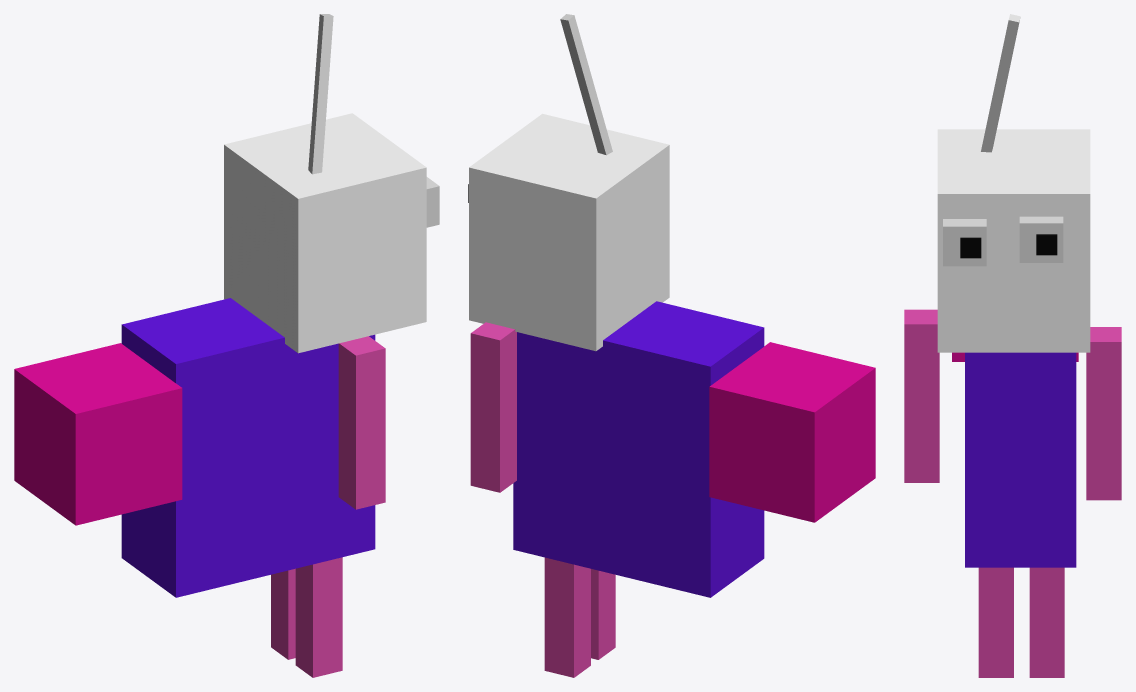
Rendered from cubo.glb.
3 renders of one model, left to right at view 1: azimuth 30°, elevation 25°; view 2: azimuth 150°, elevation 25°; view 3: azimuth 270°, elevation 25°, orthographic. The views are drawn at different scales.
Parts seen in each view (by area): view 1: Cuerpo, Cabeza, Mochila, Brazo Derecho, Pierna derecha, Antena, Pierna Izquierda, Ojo Derecho; view 2: Cuerpo, Cabeza, Mochila, Brazo Izquierdo, Pierna Izquierda, Antena, Pierna derecha; view 3: Cabeza, Cuerpo, Brazo Derecho, Brazo Izquierdo, Pierna derecha, Pierna Izquierda, Ojo Izquierdo, Ojo Derecho, Antena, Pulipa izquierda, Pupila derecha.
Part boxes in pixels (left/top/right/bottom): Cuerpo: left=121, top=298, right=375, bottom=597; Cabeza: left=224, top=113, right=426, bottom=353; Mochila: left=14, top=343, right=182, bottom=525; Brazo Derecho: left=338, top=336, right=385, bottom=509; Pierna derecha: left=295, top=557, right=342, bottom=677; Antena: left=308, top=14, right=333, bottom=174; Pierna Izquierda: left=271, top=568, right=295, bottom=659; Ojo Derecho: left=426, top=177, right=439, bottom=227; Cuerpo: left=513, top=301, right=764, bottom=597; Cabeza: left=469, top=113, right=669, bottom=351; Mochila: left=709, top=342, right=875, bottom=522; Brazo Izquierdo: left=470, top=322, right=516, bottom=492; Pierna Izquierda: left=544, top=557, right=590, bottom=677; Antena: left=560, top=14, right=612, bottom=155; Pierna derecha: left=591, top=569, right=615, bottom=659; Cabeza: left=937, top=129, right=1090, bottom=352; Cuerpo: left=965, top=352, right=1076, bottom=567; Brazo Derecho: left=904, top=309, right=939, bottom=482; Brazo Izquierdo: left=1086, top=327, right=1121, bottom=500; Pierna derecha: left=978, top=567, right=1013, bottom=677; Pierna Izquierda: left=1029, top=567, right=1064, bottom=677; Ojo Izquierdo: left=1019, top=216, right=1063, bottom=262; Ojo Derecho: left=943, top=219, right=986, bottom=266; Antena: left=981, top=14, right=1020, bottom=152; Pulipa izquierda: left=1036, top=234, right=1057, bottom=255; Pupila derecha: left=960, top=237, right=981, bottom=258.
Size of the model in its own units: 1.78 by 3.03 by 0.8996.
